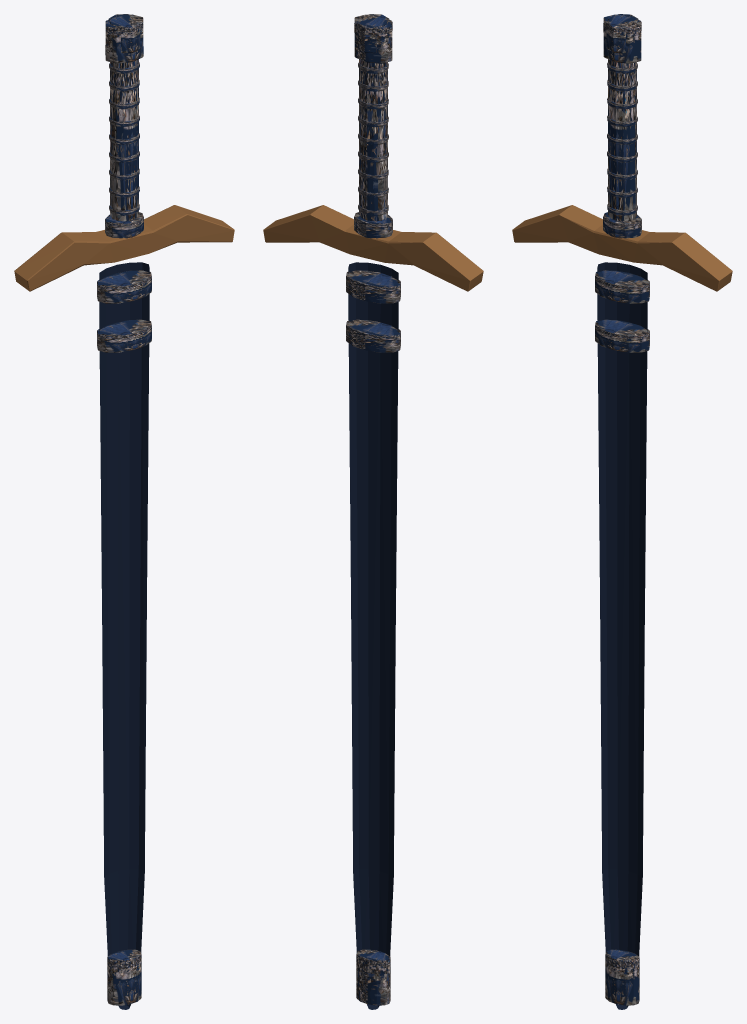
File: arrel_prop_sword_sheathed.fbx
The picture shows the model from 3 angles, left to right: view 1: azimuth 30°, elevation 25°; view 2: azimuth 150°, elevation 25°; view 3: azimuth 330°, elevation 25°; orthographic projection.
Parts seen in each view (by area): view 1: ArrelSwordSheathed; view 2: ArrelSwordSheathed; view 3: ArrelSwordSheathed.
Part boxes in pixels (x1,y1,x2,y2): ArrelSwordSheathed: (14, 14, 234, 1009); ArrelSwordSheathed: (263, 14, 483, 1009); ArrelSwordSheathed: (512, 14, 732, 1009).
Size of the model in its own units: 23.91 by 3.56 by 108.
1 material, 1 textured.
